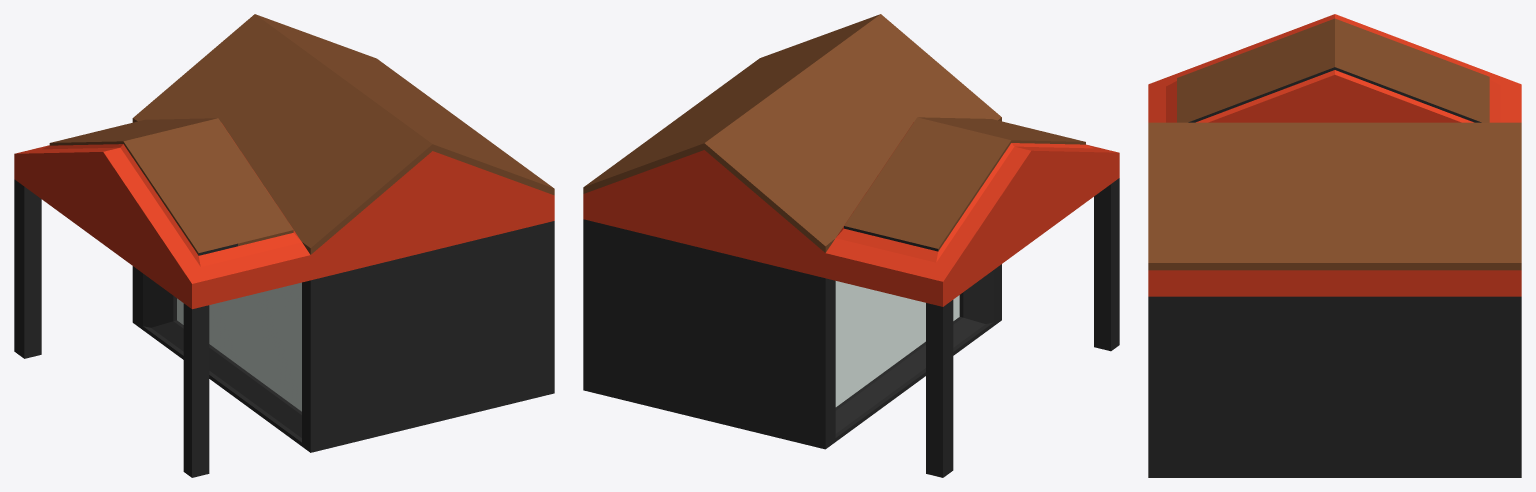
The model's file is GAMAYHOUSE.fbx.
3 renders of one model, left to right at view 1: azimuth 30°, elevation 25°; view 2: azimuth 150°, elevation 25°; view 3: azimuth 270°, elevation 25°, orthographic. The views are drawn at different scales.
Parts seen in each view (by area): view 1: Cube; view 2: Cube; view 3: Cube.
Part boxes in pixels (bbox=[...]): Cube: bbox=[14, 14, 554, 477]; Cube: bbox=[583, 14, 1119, 477]; Cube: bbox=[1148, 14, 1521, 477].
Size of the model in its own units: 3013 by 2215 by 2559.
